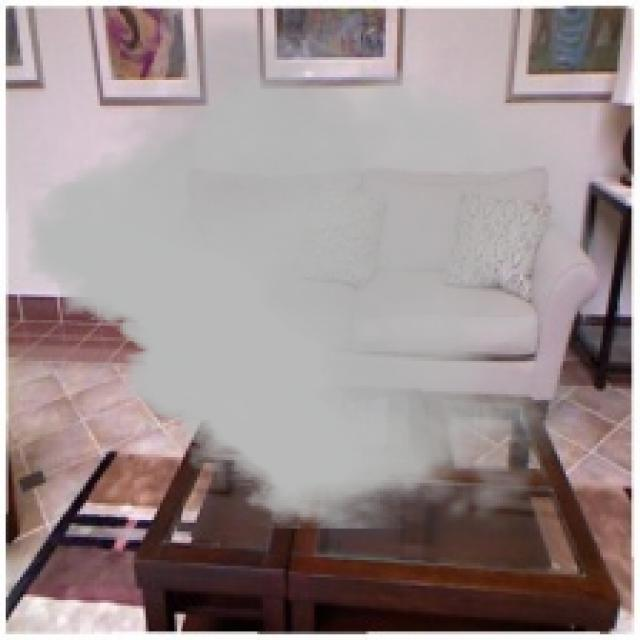Smoke: (26, 9, 592, 538)
